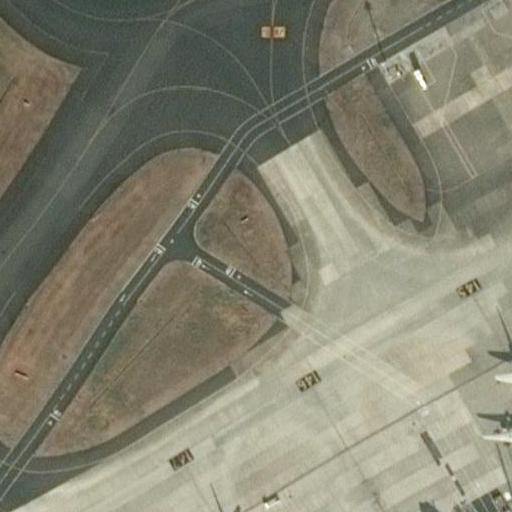Aircraft: (481, 351, 512, 481)
